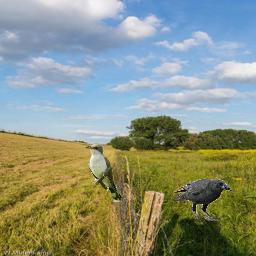Crow: (171, 179, 232, 221)
Cuckoo: (85, 143, 122, 202)
